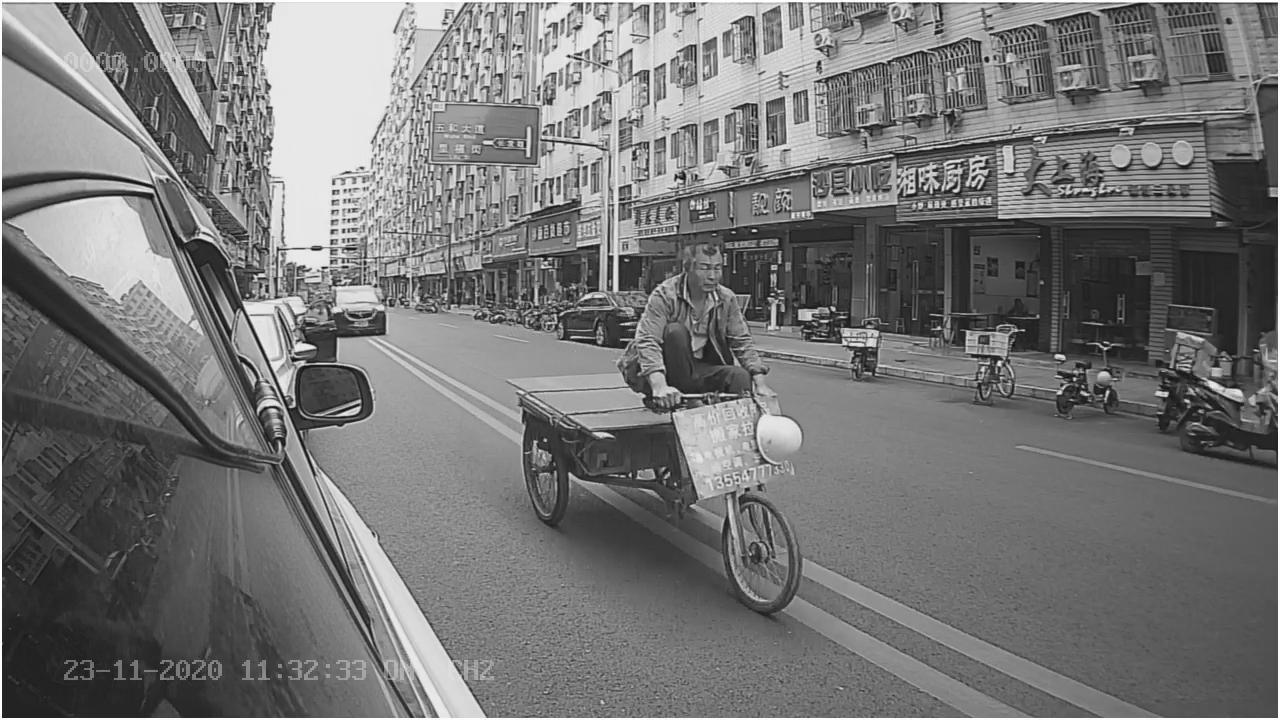person: (615, 228, 775, 408)
